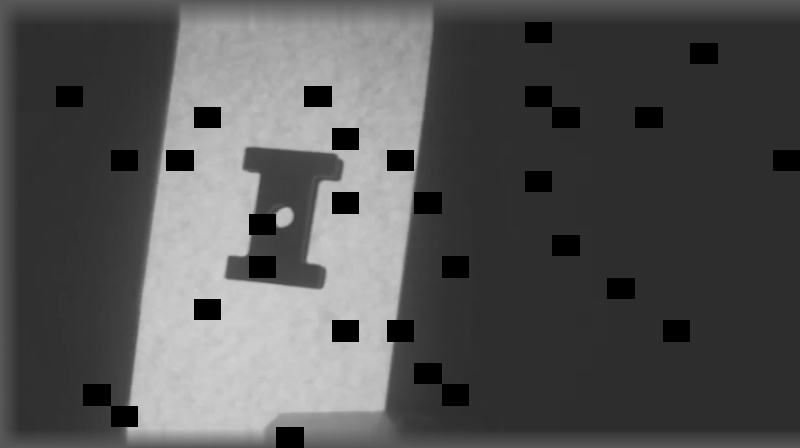O002: (219, 143, 344, 291)
